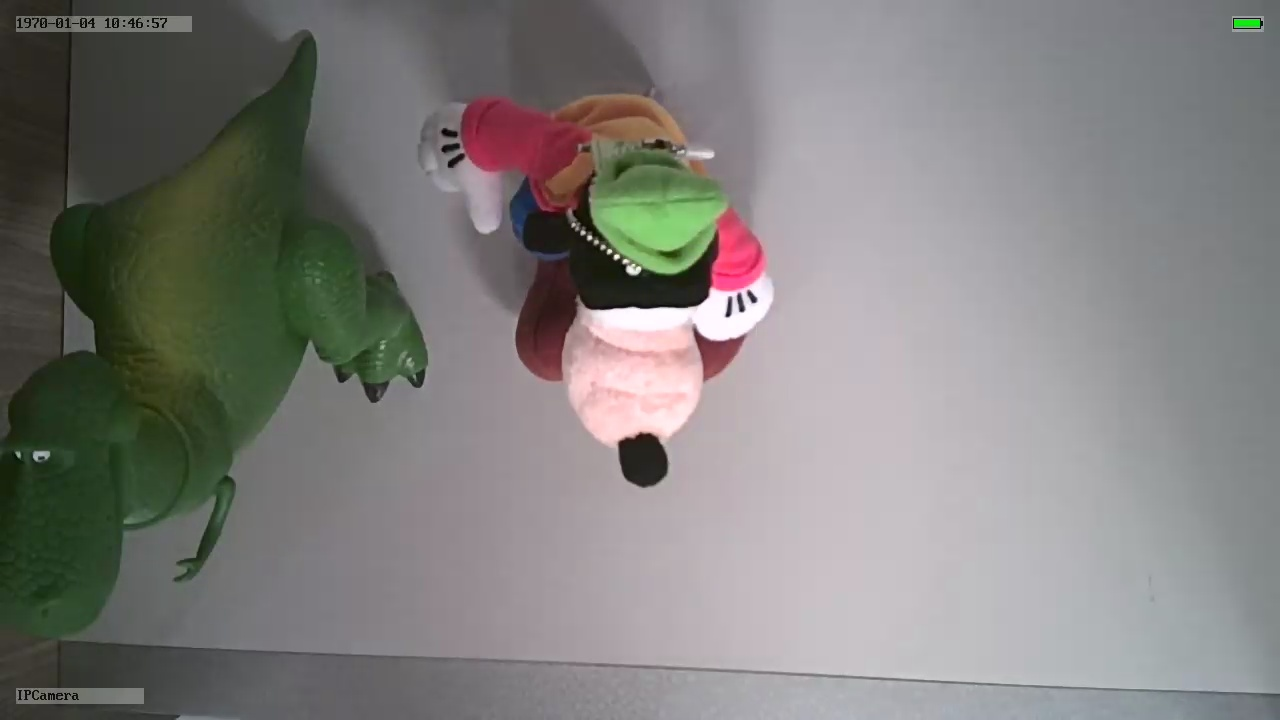goofy: (418, 94, 778, 492)
rex: (1, 135, 428, 642)
